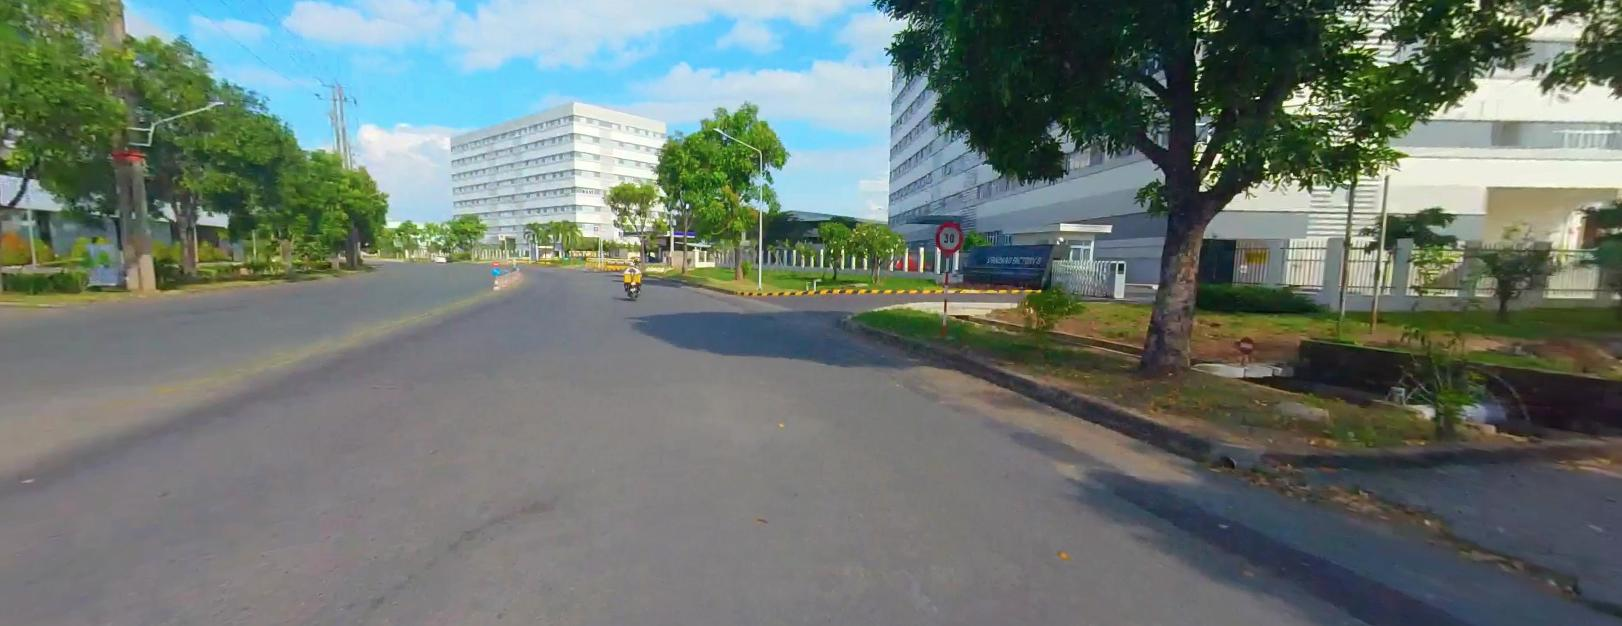Cam nguoc chieu: (492, 259, 499, 265)
Gioi han toc do: (934, 220, 962, 251)
Hieu lenh: (491, 266, 499, 274)
